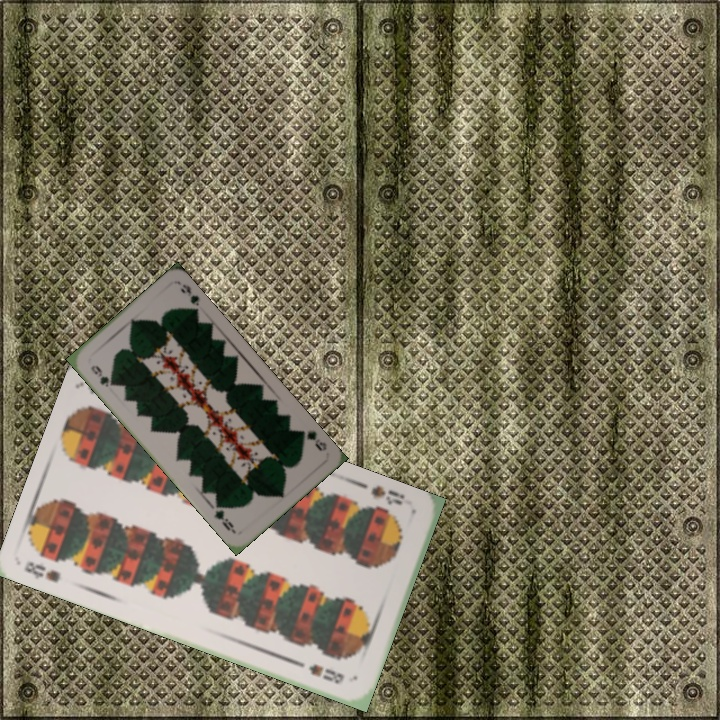G9: (294, 426, 329, 454), (87, 361, 118, 390)
S8: (20, 557, 63, 585), (367, 481, 408, 508)
